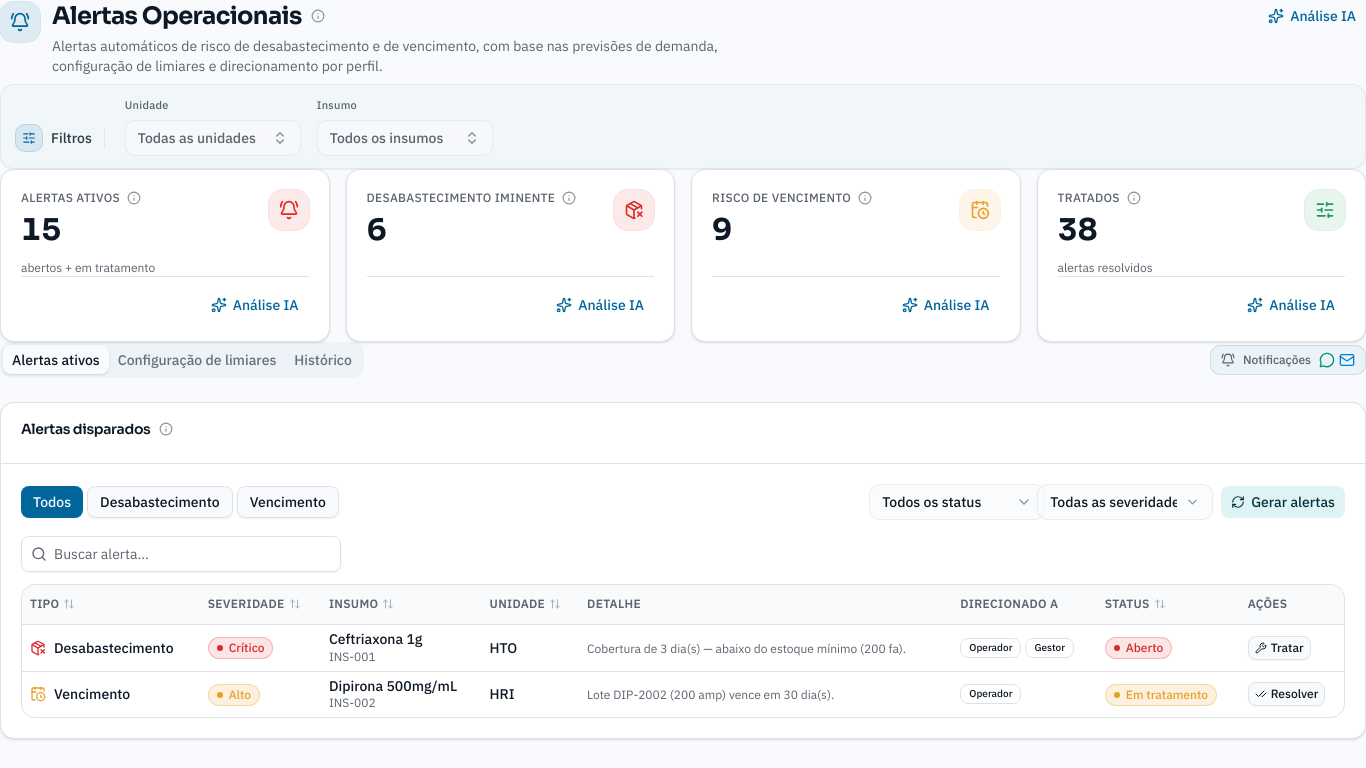
AlertasPage › trata um alerta aberto: confirma no modal (com quem faz a ação) e mostra toast
Click the button "Tratar".
click(1279, 648)  # box [1248, 636, 1311, 660]
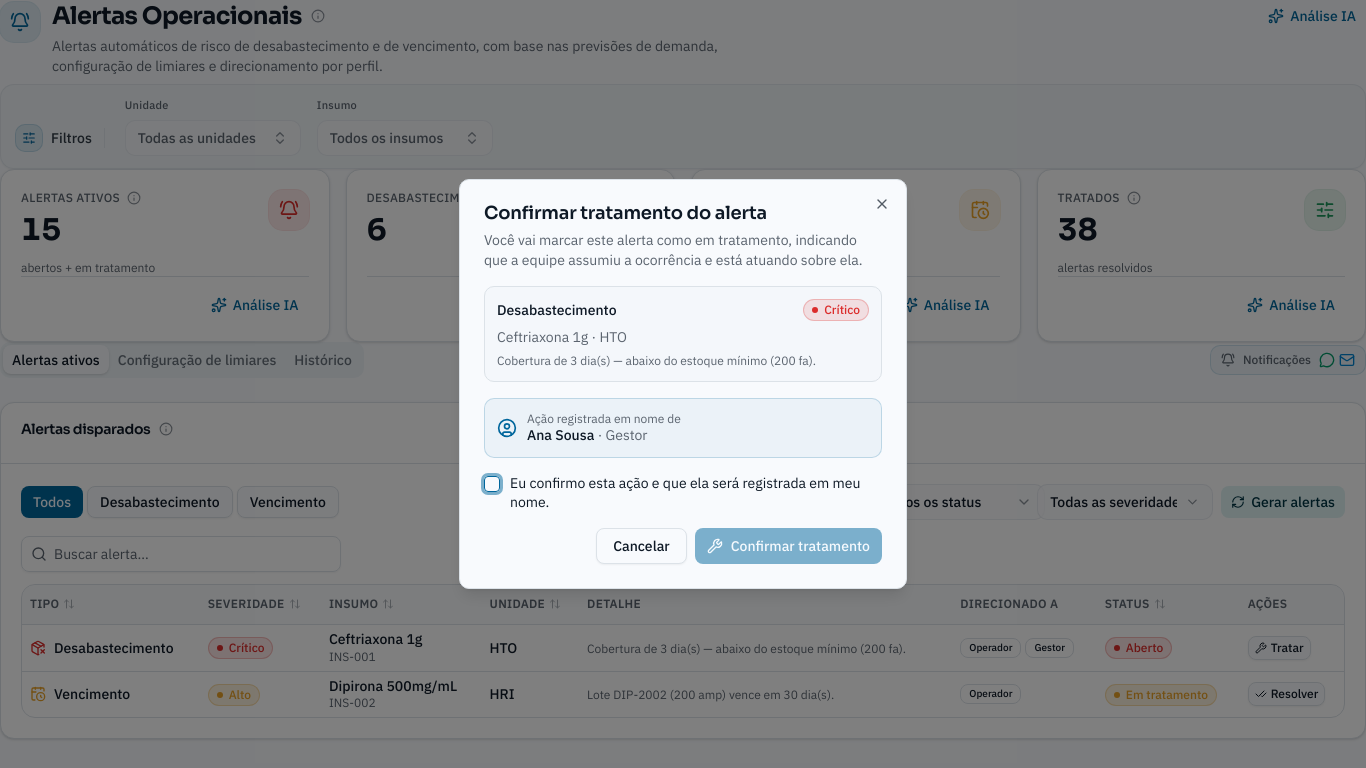
Expected: the text "Ana Sousa · Gestor" is shown, [527, 426, 648, 444]
Expected: the button "Confirmar tratamento" is disabled, [695, 528, 882, 564]
Click the checkbox.
click(492, 484)  # box [484, 476, 500, 492]
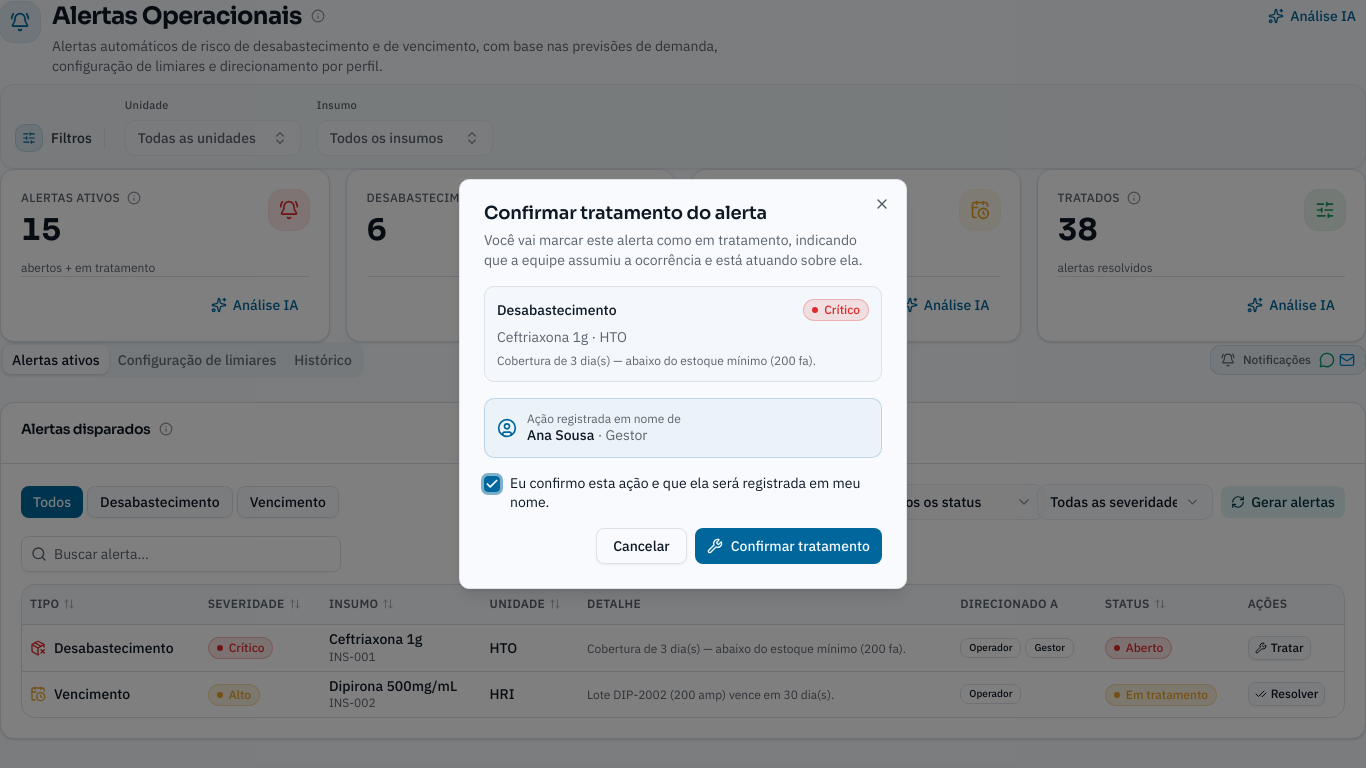
Expected: the button "Confirmar tratamento" is enabled
Click the button "Confirmar tratamento".
click(788, 546)  # box [695, 528, 882, 564]
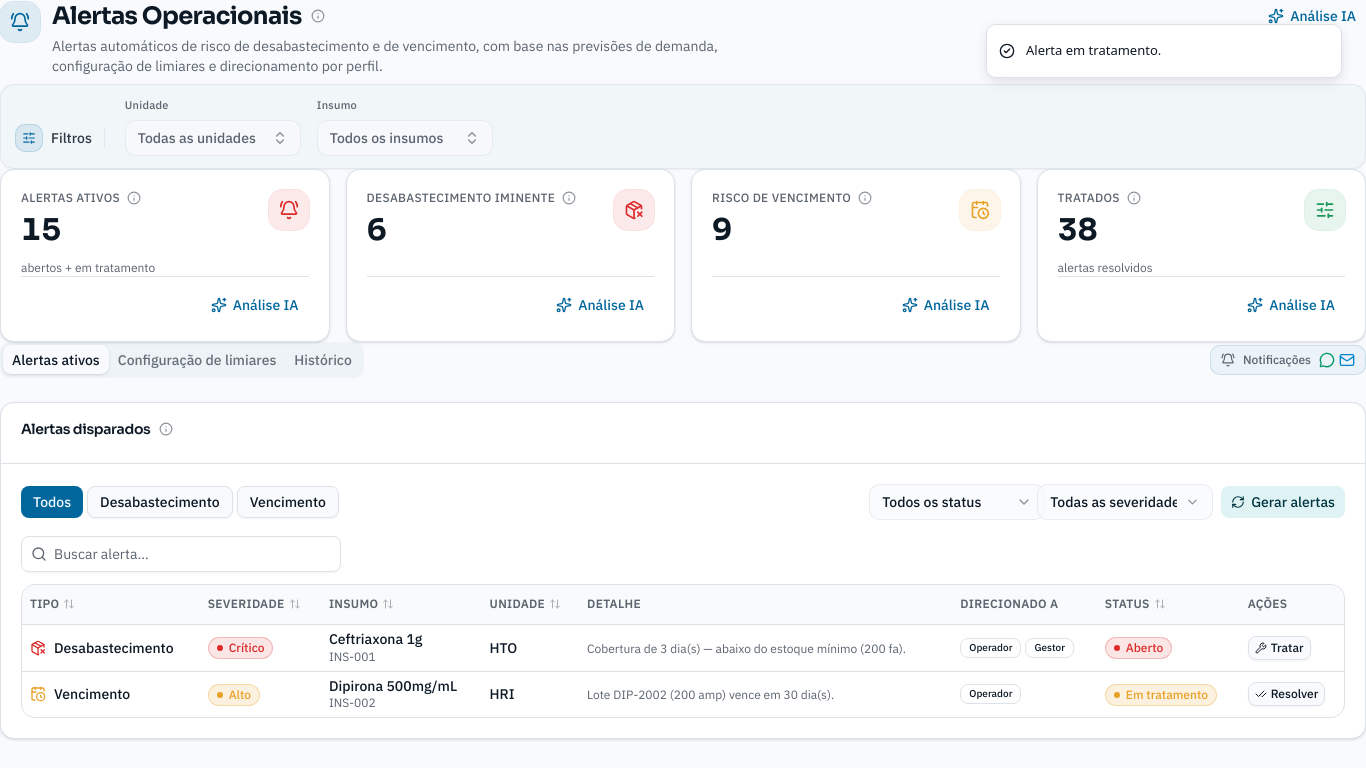
Expected: the text "Alerta em tratamento." is shown, [1026, 41, 1161, 60]
